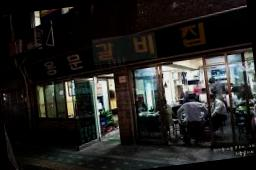galbi: (91, 32, 158, 66)
